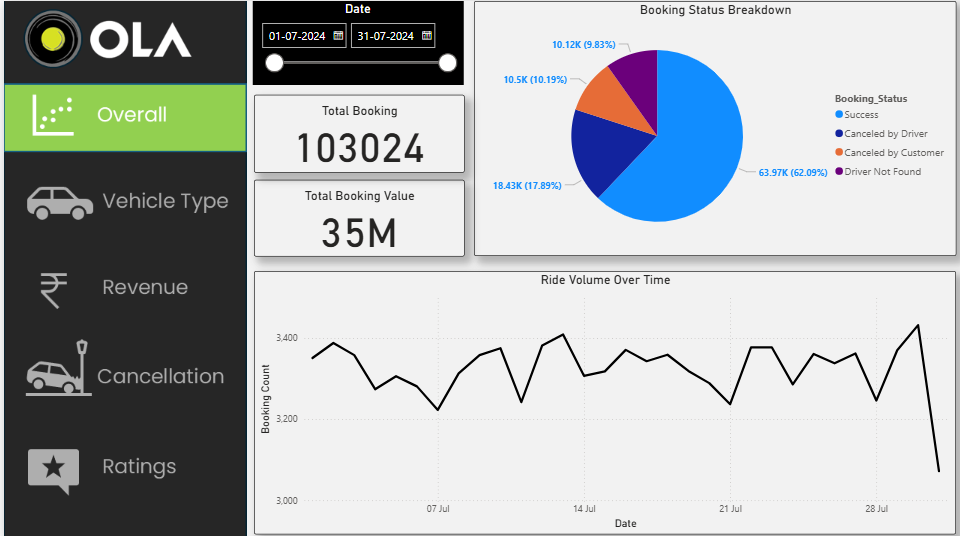

Layout of this report page (visuals, bound fields, positions):
{"tool":"powerbi","page":{"name":"Overall","canvas":[1280,720],"ordinal":0},"visuals":[{"type":"actionButton","box":[0,228.9,322.7,90.4],"z":0},{"type":"actionButton","box":[0,445.5,322.7,90.4],"z":1000},{"type":"actionButton","box":[0,340.6,322.7,90.4],"z":2000},{"type":"actionButton","box":[0,585.1,322.7,90.4],"z":3000},{"type":"lineChart","title":"Ride Volume Over Time","fields":{"Y":["CountNonNull(Bookings-100000-Rows.Booking_ID)"],"Category":["Bookings-100000-Rows.Date"]},"box":[333.3,359.7,936.1,351.4],"z":4000},{"type":"pieChart","title":"Booking Status Breakdown","fields":{"Category":["Bookings-100000-Rows.Booking_Status"],"Y":["CountNonNull(Bookings-100000-Rows.Booking_Status)"]},"box":[626.4,0,643.1,340.3],"z":5000},{"type":"slicer","title":"Date","fields":{"Values":["Bookings-100000-Rows.Date"]},"box":[331.9,0,280.6,111.1],"z":6000},{"type":"card","title":"Total Booking","fields":{"Values":["CountNonNull(Bookings-100000-Rows.Booking_ID)"]},"box":[333.3,125,280.6,104.2],"z":7000},{"type":"card","title":"Total Booking Value","fields":{"Values":["Sum(Bookings-100000-Rows.Booking_Value)"]},"box":[333.3,237.5,280.6,102.8],"z":8000}]}

Visuals, with their boxes in screenshot pixels (x1, y1, x2, y2), scaled from the page's 1280x720 canvas onto the 960x536 screenshot:
actionButton: x1=0 y1=170 x2=242 y2=238
actionButton: x1=0 y1=332 x2=242 y2=399
actionButton: x1=0 y1=254 x2=242 y2=321
actionButton: x1=0 y1=436 x2=242 y2=503
"Ride Volume Over Time" lineChart: x1=250 y1=268 x2=952 y2=529
"Booking Status Breakdown" pieChart: x1=470 y1=0 x2=952 y2=253
"Date" slicer: x1=249 y1=0 x2=459 y2=83
"Total Booking" card: x1=250 y1=93 x2=460 y2=171
"Total Booking Value" card: x1=250 y1=177 x2=460 y2=253
